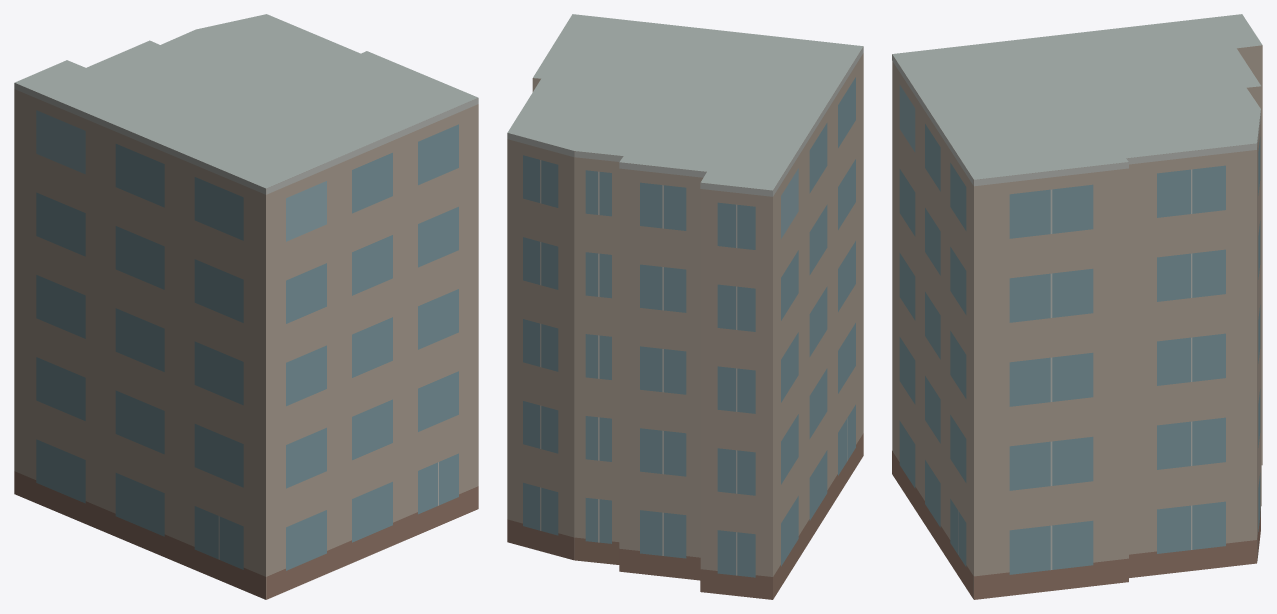
The model's file is survey-upis-32704923.glb.
The picture shows the model from 3 angles, left to right: view 1: azimuth 30°, elevation 25°; view 2: azimuth 150°, elevation 25°; view 3: azimuth 270°, elevation 25°; orthographic projection. The views are drawn at different scales.
Visible parts, largest first — view 1: survey-upis-32704923.tmp; view 2: survey-upis-32704923.tmp; view 3: survey-upis-32704923.tmp.
Boxes of the visible parts, bbox=[...] form: survey-upis-32704923.tmp: bbox=[14, 14, 478, 599]; survey-upis-32704923.tmp: bbox=[507, 14, 863, 599]; survey-upis-32704923.tmp: bbox=[892, 14, 1262, 599].
Size of the model in its own units: 13.39 by 15.8 by 12.64.
